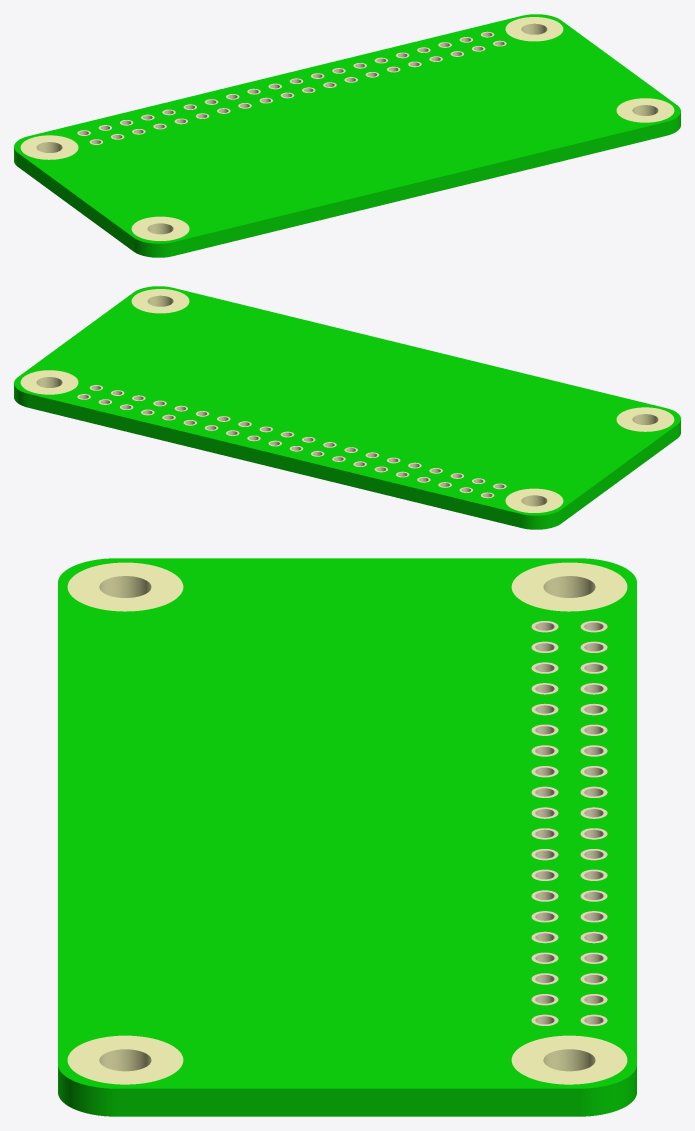
The model's file is rpi.gltf.
3 renders of one model, top to bottom at view 1: azimuth 30°, elevation 25°; view 2: azimuth 150°, elevation 25°; view 3: azimuth 270°, elevation 25°, orthographic. The views are drawn at different scales.
Visible parts, largest first — view 1: PCB, Raspberry Pi Zero 2 W; view 2: PCB, Raspberry Pi Zero 2 W; view 3: PCB, Raspberry Pi Zero 2 W.
Boxes of the visible parts, bbox=[...] form: PCB, Raspberry Pi Zero 2 W: bbox=[14, 14, 680, 257]; PCB, Raspberry Pi Zero 2 W: bbox=[14, 286, 680, 529]; PCB, Raspberry Pi Zero 2 W: bbox=[58, 558, 636, 1116].
Bounding box in the file's own units: 0.065 × 0.0016 × 0.03.
